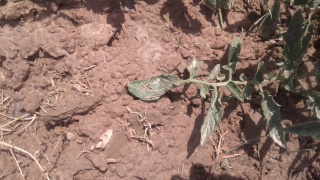tomato diseased leaf: (125, 74, 199, 106)
tomato plant: (133, 58, 312, 127)
